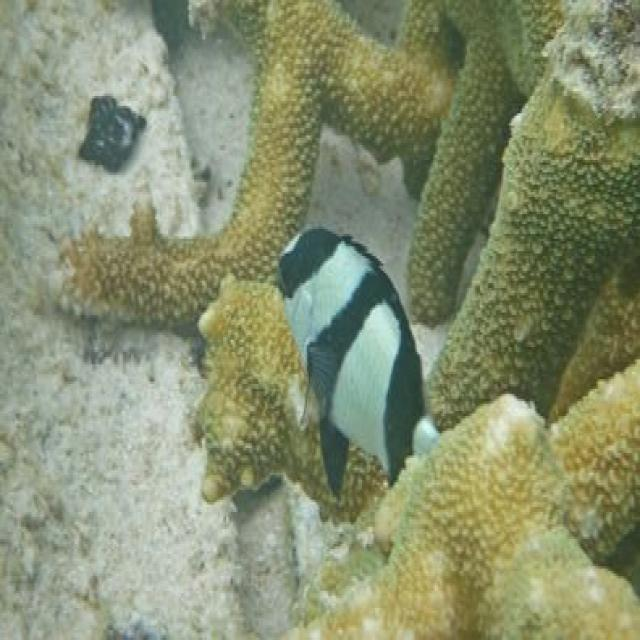ThreeStripedDamselfish: (276, 222, 439, 498)
